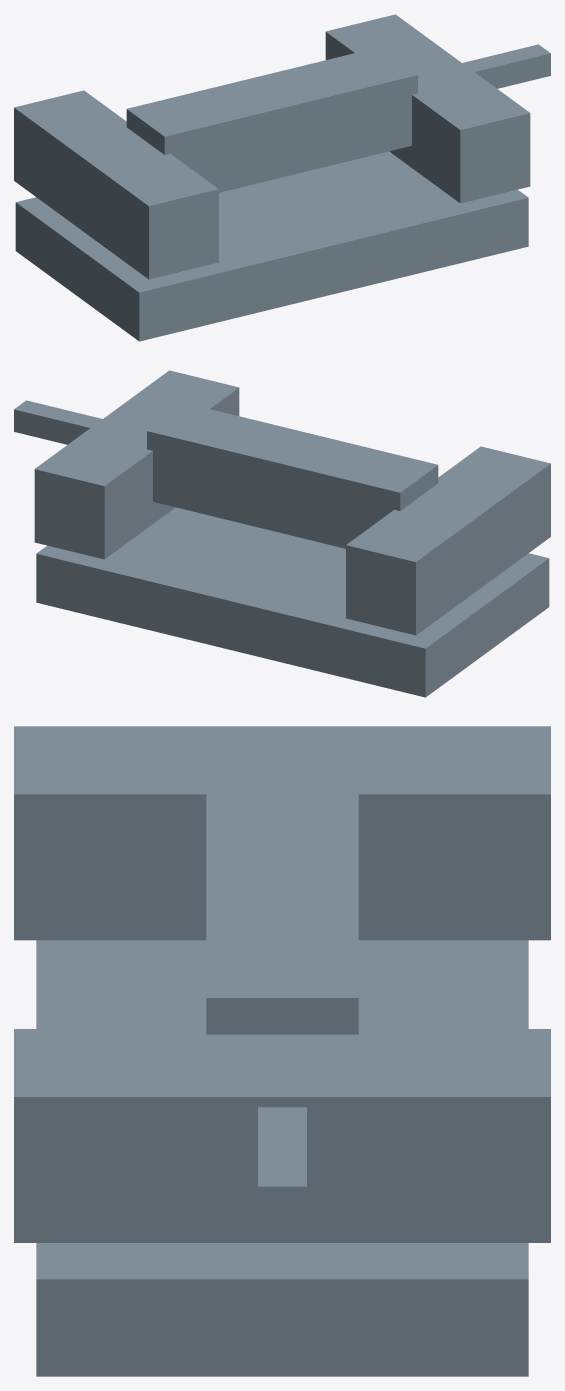
3 renders of one model, top to bottom at view 1: azimuth 30°, elevation 25°; view 2: azimuth 150°, elevation 25°; view 3: azimuth 270°, elevation 25°, orthographic. The views are drawn at different scales.
Bounding box in the file's own units: 1.2 × 0.385 × 0.6.
